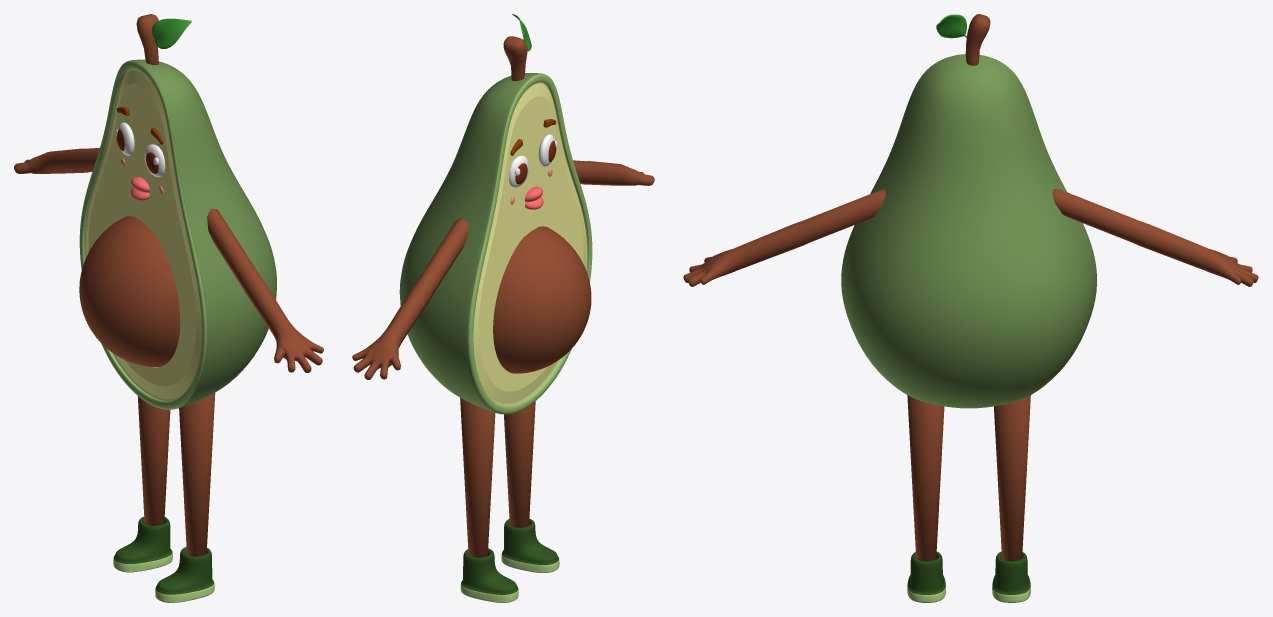
Rendered from ecovadoo2.fbx.
3 renders of one model, left to right at view 1: azimuth 30°, elevation 25°; view 2: azimuth 150°, elevation 25°; view 3: azimuth 270°, elevation 25°, orthographic. The views are drawn at different scales.
Visible parts, largest first — view 1: 1.avokado, 1.çekirdek, 1.bacaklar, 1.kol, 1.ayaklar, yaprak, 2.sap.001, göz1; view 2: 1.avokado, 1.çekirdek, 1.bacaklar, 1.kol, 1.ayaklar, 2.sap.001, göz1; view 3: 1.avokado, 1.kol, 1.bacaklar, 1.ayaklar, 2.sap.001.
Boxes of the visible parts, x1=… form: 1.avokado: x1=79, y1=59, x2=276, y2=409; 1.çekirdek: x1=79, y1=216, x2=180, y2=366; 1.bacaklar: x1=137, y1=393, x2=215, y2=556; 1.kol: x1=14, y1=147, x2=323, y2=372; 1.ayaklar: x1=113, y1=516, x2=214, y2=602; yaprak: x1=152, y1=18, x2=191, y2=48; 2.sap.001: x1=136, y1=14, x2=158, y2=64; göz1: x1=118, y1=122, x2=165, y2=177; 1.avokado: x1=399, y1=73, x2=592, y2=414; 1.çekirdek: x1=493, y1=226, x2=591, y2=373; 1.bacaklar: x1=460, y1=397, x2=535, y2=557; 1.kol: x1=352, y1=160, x2=654, y2=379; 1.ayaklar: x1=460, y1=518, x2=559, y2=602; 2.sap.001: x1=503, y1=36, x2=527, y2=80; göz1: x1=509, y1=134, x2=554, y2=187; 1.avokado: x1=841, y1=54, x2=1096, y2=408; 1.kol: x1=683, y1=189, x2=1258, y2=286; 1.bacaklar: x1=907, y1=395, x2=1030, y2=561; 1.ayaklar: x1=907, y1=551, x2=1030, y2=602; 2.sap.001: x1=965, y1=14, x2=990, y2=65.
Bounding box in the file's own units: 202 × 645 × 585.
